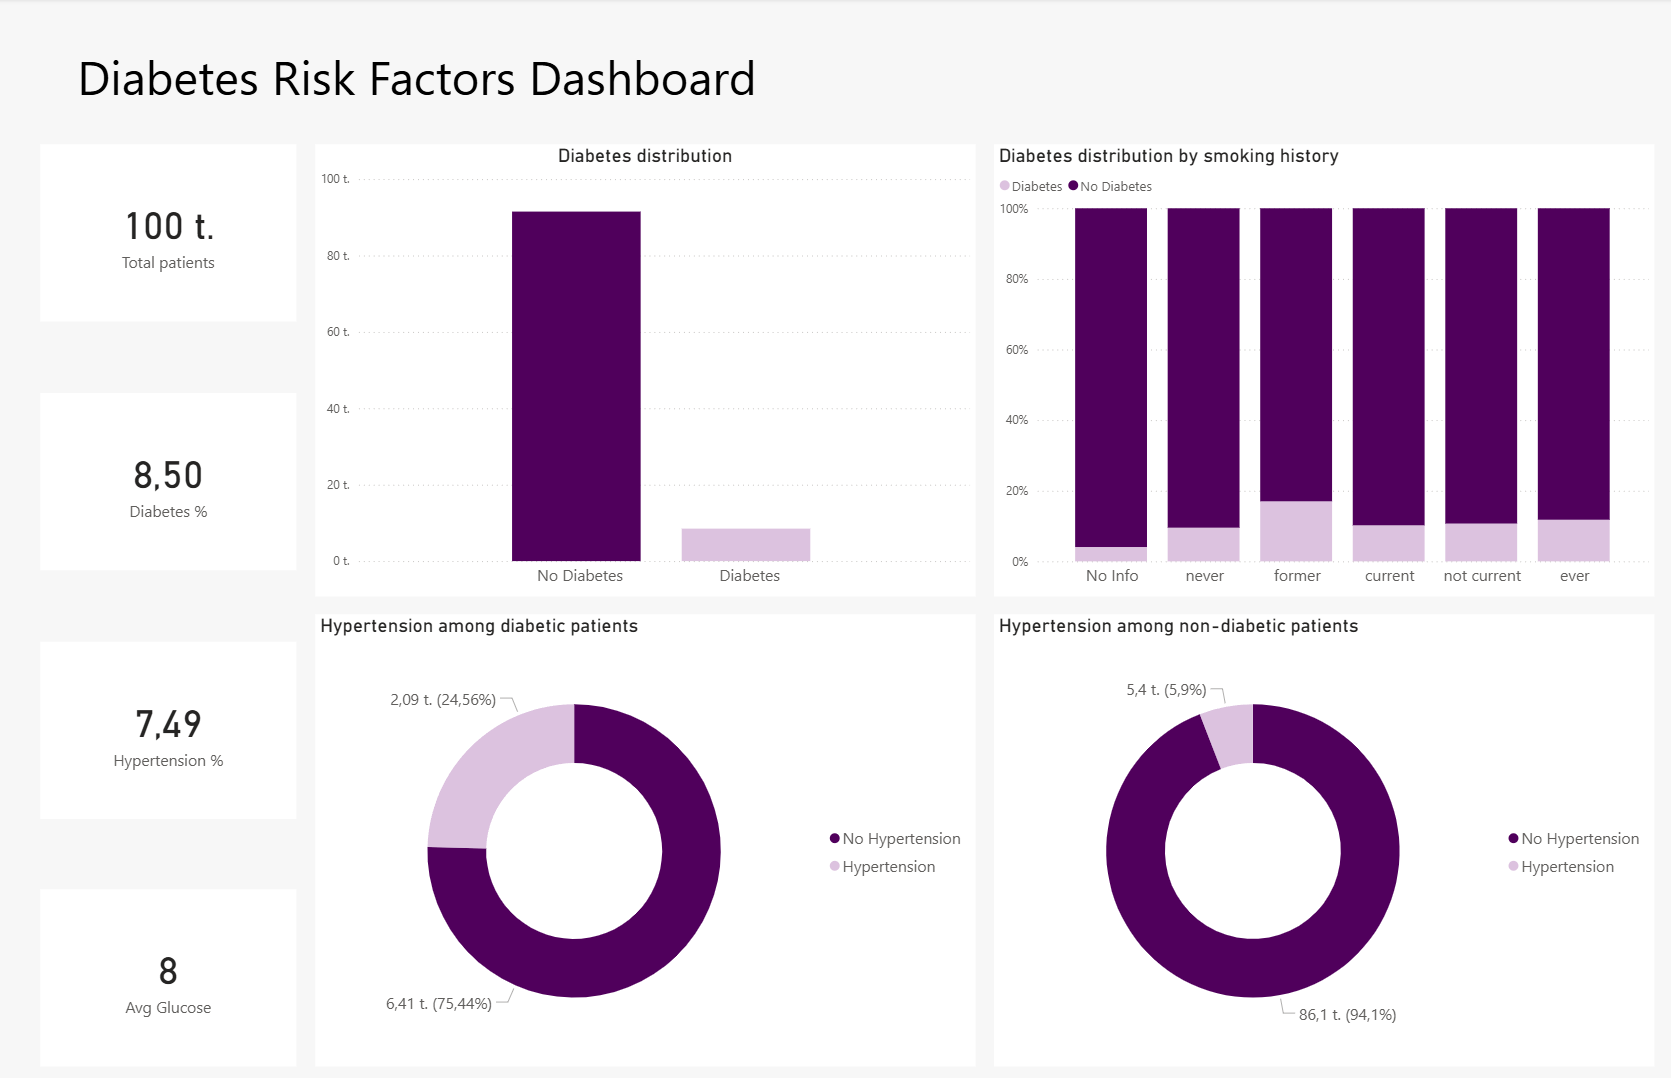

What the dashboard file says about the page in this screenshot:
{"tool":"powerbi","page":{"name":"Sivu 1","canvas":[1700,1100],"ordinal":0},"visuals":[{"type":"card","fields":{"Values":["diabetes_cleaned.Diabetes %"]},"box":[41.9,401,260.2,180.2],"z":0},{"type":"clusteredColumnChart","title":"Diabetes distribution","fields":{"Category":["diabetes_cleaned.Diabetes Label"],"Y":["CountNonNull(diabetes_cleaned.Diabetes Label)"]},"box":[321.1,148.5,670.1,459.4],"z":1000},{"type":"card","fields":{"Values":["diabetes_cleaned.Total patients"]},"box":[41.9,148.5,260.2,180.2],"z":2000},{"type":"card","fields":{"Values":["diabetes_cleaned.Avg Glucose"]},"box":[41.9,904.8,260.2,180.2],"z":3000},{"type":"card","fields":{"Values":["diabetes_cleaned.Hypertension %"]},"box":[41.9,653.6,260.2,180.2],"z":4000},{"type":"donutChart","title":"Hypertension among diabetic patients","fields":{"Category":["diabetes_cleaned.Hypertension Label"],"Y":["CountNonNull(diabetes_cleaned.diabetes)"]},"box":[321.1,625.6,670.1,459.4],"z":5000},{"type":"donutChart","title":"Hypertension among non-diabetic patients","fields":{"Category":["diabetes_cleaned.Hypertension Label"],"Y":["CountNonNull(diabetes_cleaned.diabetes)"]},"box":[1010.2,625.6,670.1,459.4],"z":6000},{"type":"textbox","box":[61.4,42,726.8,88.8],"z":7000},{"type":"hundredPercentStackedColumnChart","title":"Diabetes distribution by smoking history","fields":{"Category":["diabetes_cleaned.smoking_history"],"Y":["CountNonNull(diabetes_cleaned.diabetes)"],"Series":["diabetes_cleaned.Diabetes Label"]},"box":[1010.2,148.5,670.1,459.4],"z":7001}]}

Visuals, with their boxes in screenshot pixels (x1, y1, x2, y2), scaled from the page's 1700x1100 canvas onto the 1671x1078 screenshot:
card - diabetes_cleaned.Diabetes %: [41, 393, 297, 570]
"Diabetes distribution" clusteredColumnChart: [316, 146, 974, 596]
card - diabetes_cleaned.Total patients: [41, 146, 297, 322]
card - diabetes_cleaned.Avg Glucose: [41, 887, 297, 1063]
card - diabetes_cleaned.Hypertension %: [41, 641, 297, 817]
"Hypertension among diabetic patients" donutChart: [316, 613, 974, 1063]
"Hypertension among non-diabetic patients" donutChart: [993, 613, 1652, 1063]
textbox: [60, 41, 775, 128]
"Diabetes distribution by smoking history" hundredPercentStackedColumnChart: [993, 146, 1652, 596]
